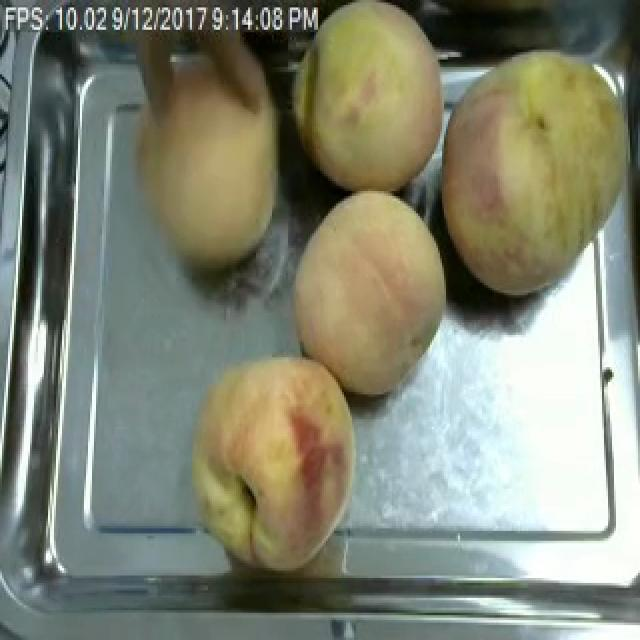Fruit: (438, 30, 640, 310), (110, 5, 298, 283), (180, 340, 370, 578), (280, 176, 456, 404), (282, 0, 454, 206)
